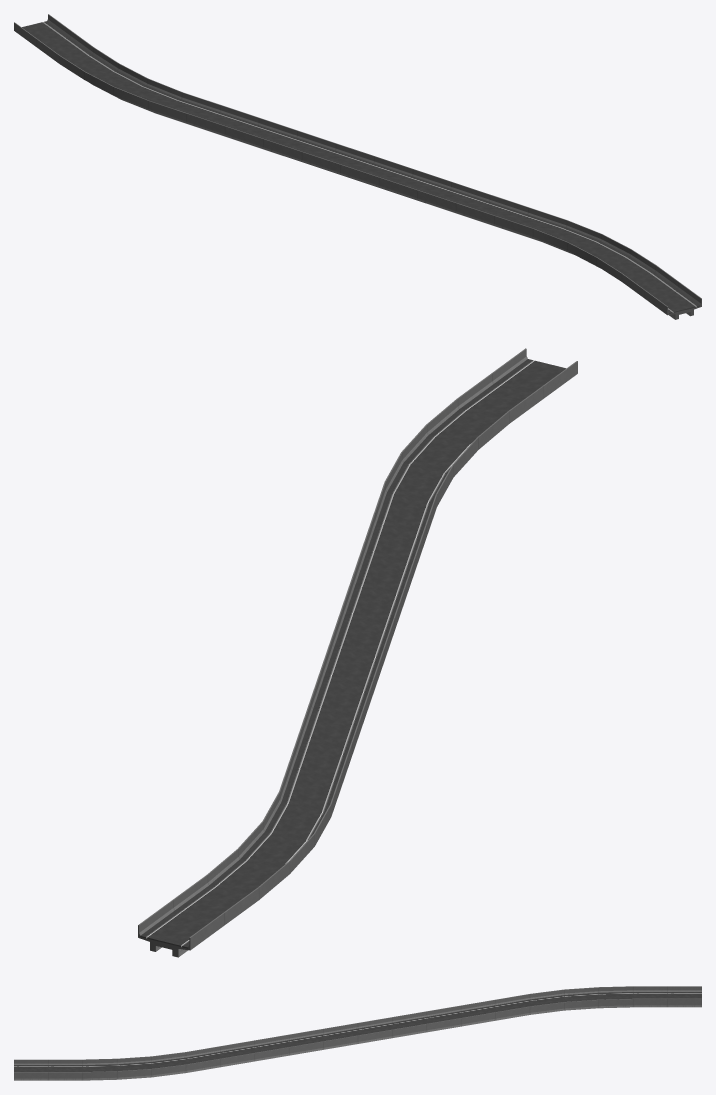
The model's file is 高速道路_カーブ_24.8m×100m.fbx.
The picture shows the model from 3 angles, top to bottom: view 1: azimuth 30°, elevation 25°; view 2: azimuth 150°, elevation 25°; view 3: azimuth 270°, elevation 25°; orthographic projection. The views are drawn at different scales.
Visible parts, largest first — view 1: 高架橋, 道路; view 2: 道路, 高架橋; view 3: 高架橋, 道路.
Boxes of the visible parts, bbox=[...] form: 高架橋: bbox=[14, 14, 701, 319]; 道路: bbox=[22, 21, 700, 313]; 道路: bbox=[140, 359, 565, 948]; 高架橋: bbox=[138, 348, 577, 957]; 高架橋: bbox=[14, 986, 701, 1080]; 道路: bbox=[14, 992, 701, 1071].
Size of the model in its own units: 29.6 by 1.8 by 100.
